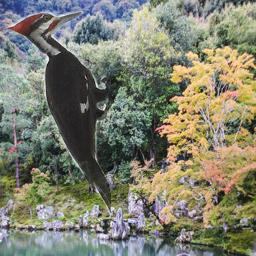Woodpecker: (5, 11, 111, 217)
